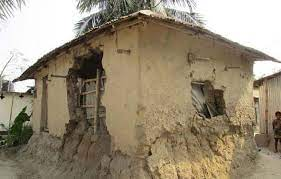Mud House: (18, 10, 264, 175)
